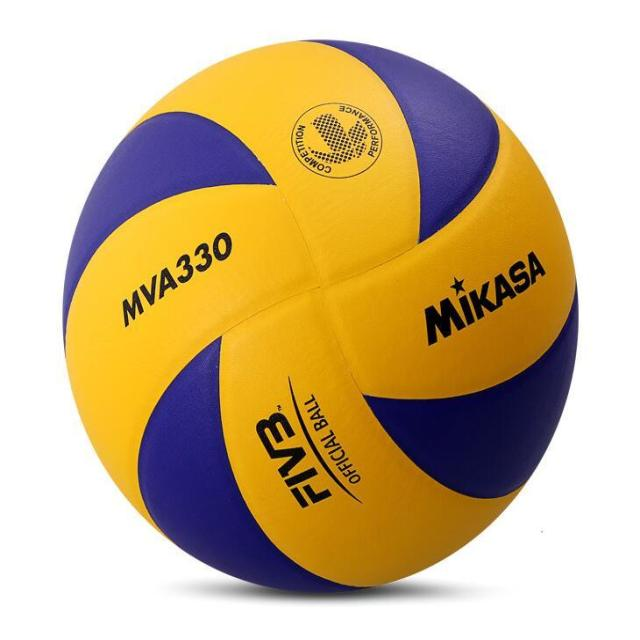Volleyball: (59, 35, 584, 595)
